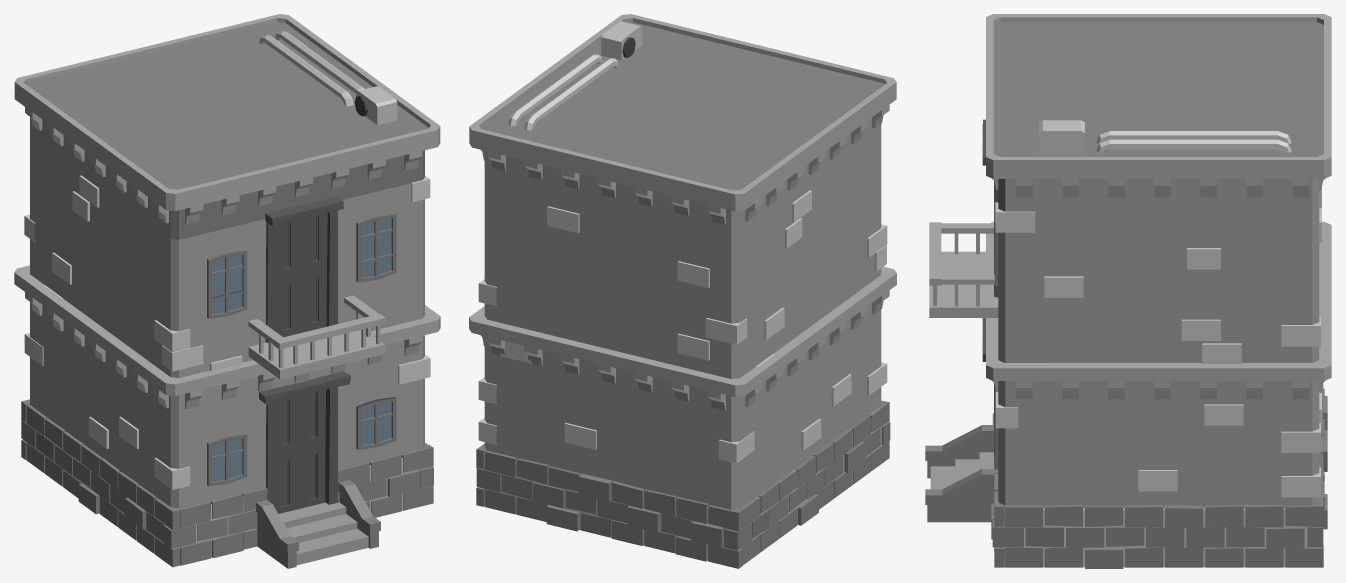
The model's file is qtb_2story_balcony.fbx.
The picture shows the model from 3 angles, left to right: view 1: azimuth 30°, elevation 25°; view 2: azimuth 150°, elevation 25°; view 3: azimuth 270°, elevation 25°; orthographic projection. The views are drawn at different scales.
Visible parts, largest first — view 1: qtb_2story_balcony_LOD0; view 2: qtb_2story_balcony_LOD0; view 3: qtb_2story_balcony_LOD0.
Part boxes in pixels (x1,y1,x2,y2): qtb_2story_balcony_LOD0: (14, 14, 440, 568); qtb_2story_balcony_LOD0: (469, 14, 896, 568); qtb_2story_balcony_LOD0: (925, 14, 1331, 568).
Size of what is drawn, in the model's own units: 5.83 by 7.95 by 6.84.
1 material, 1 textured.
